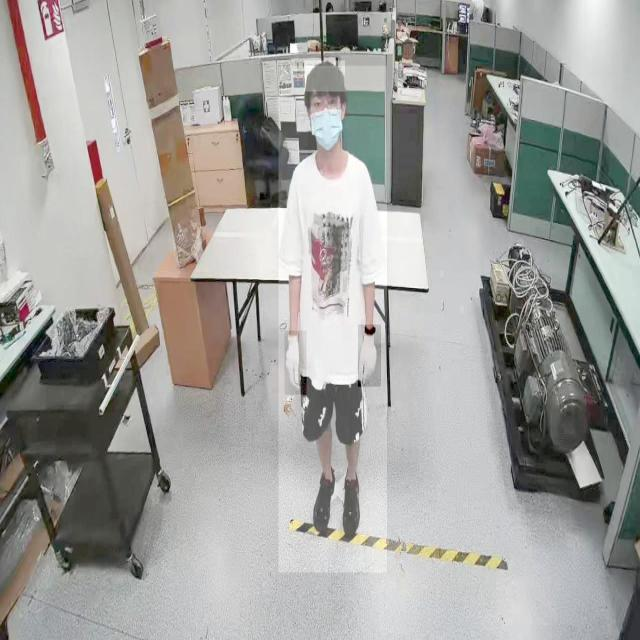face_mask: (307, 103, 347, 159)
glasses: (309, 96, 342, 120)
hand_glove: (358, 324, 382, 388), (285, 330, 307, 396)
head_nohelmet: (304, 61, 346, 92)
person: (278, 66, 388, 573)
shoes: (310, 460, 338, 530), (340, 470, 363, 540)
